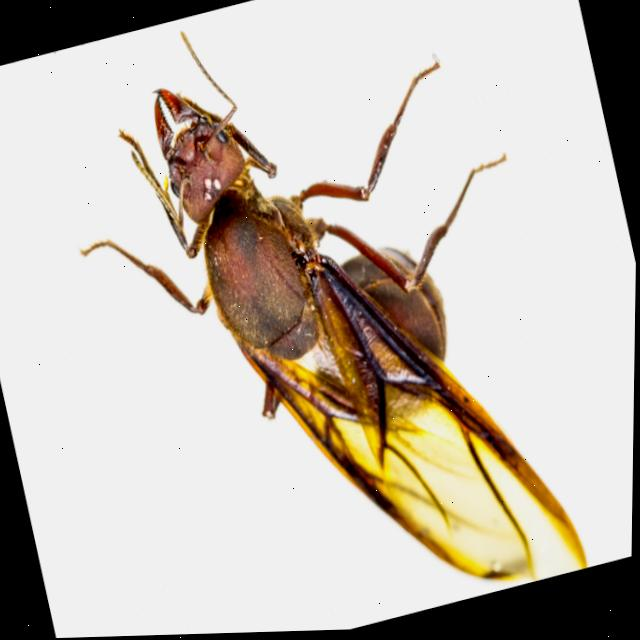Alive-Female-Alate: (32, 0, 604, 639)
